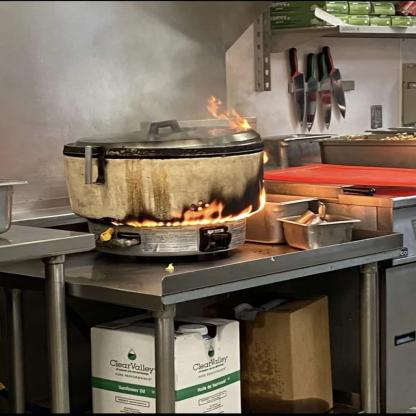fire: (125, 189, 267, 227), (207, 94, 254, 138)
smoke: (27, 0, 213, 145)
